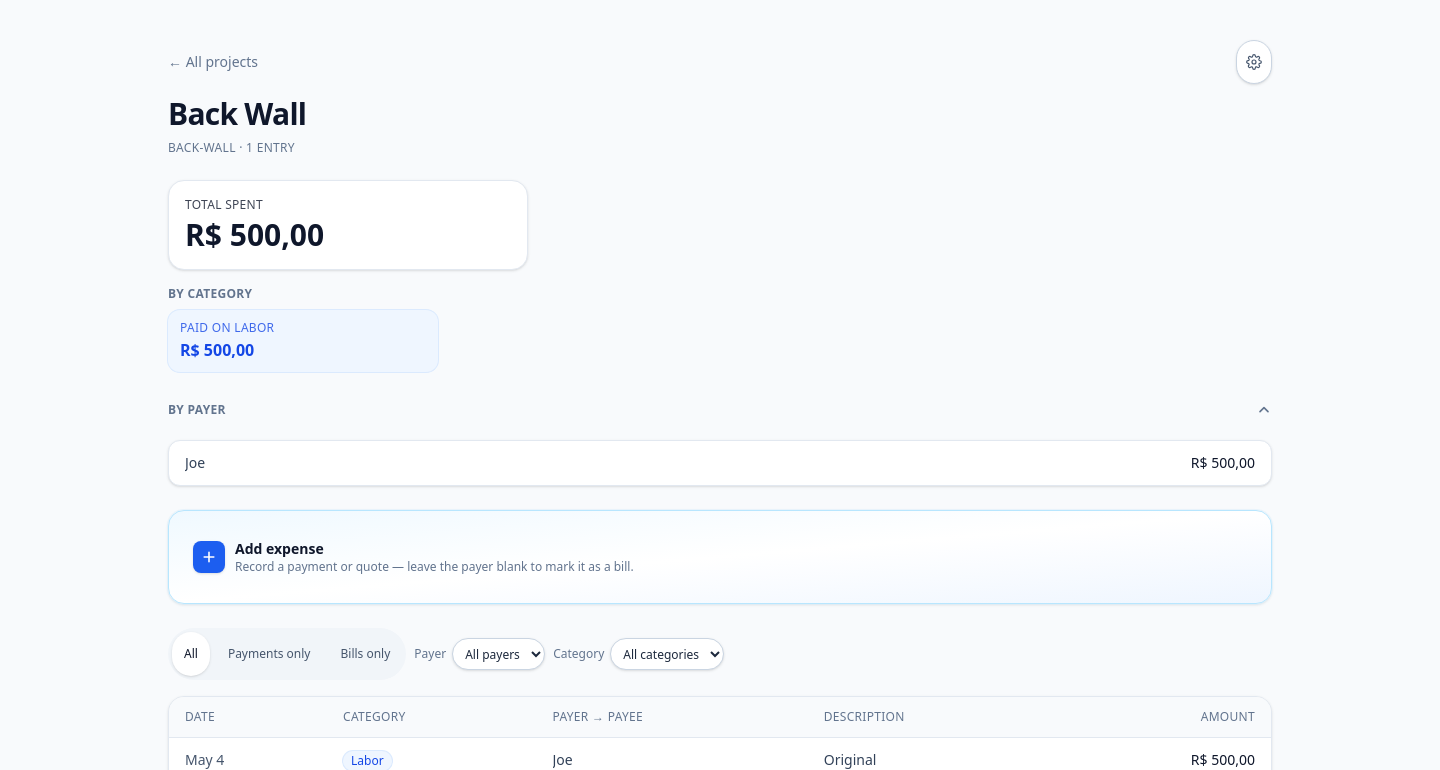
it: review regressions › rename HTTP 400 blocks without a follow-up data POST
Click the button named "Project settings" at point(1254, 62), box [1236, 40, 1272, 84]
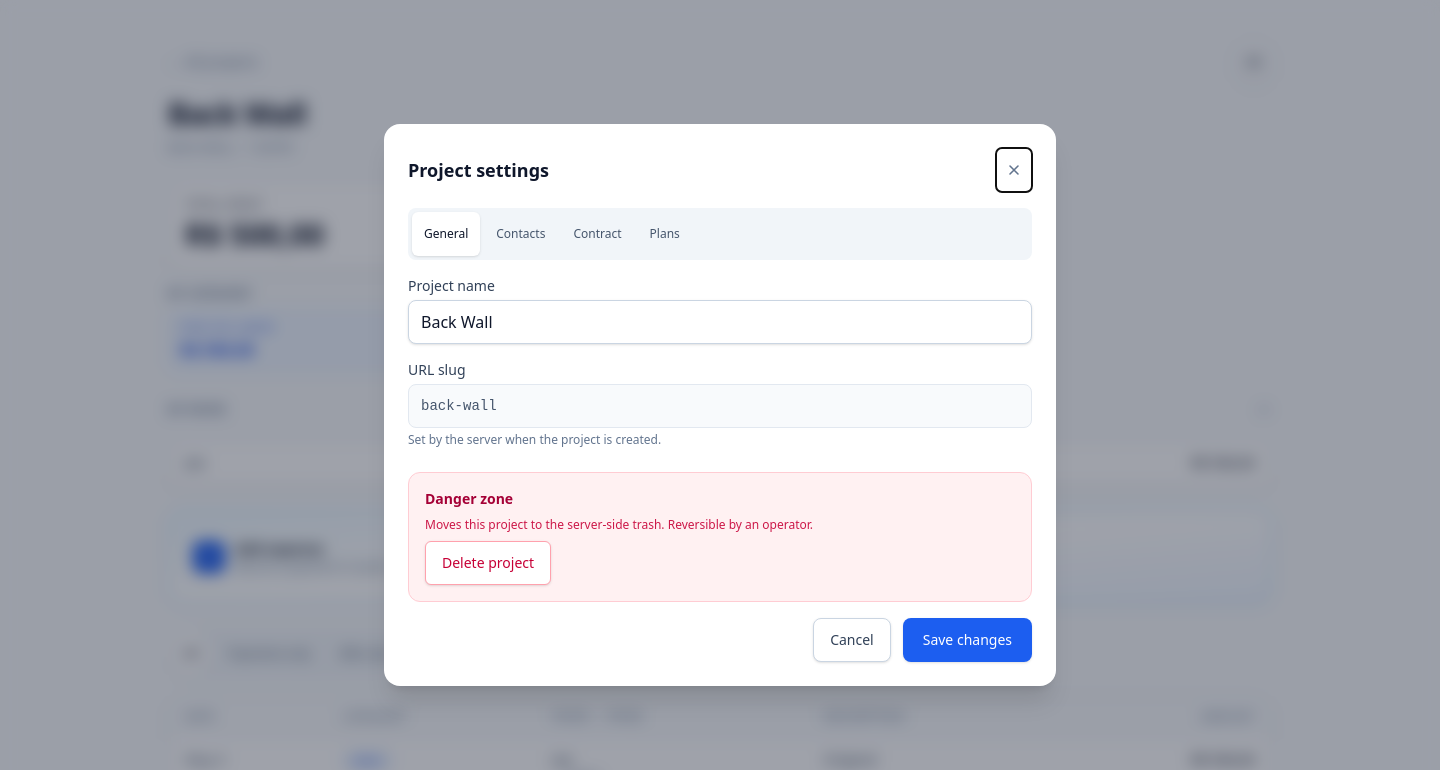
Type " draft" into the field labelled "Project name" at point(720, 322), box [408, 300, 1032, 344]
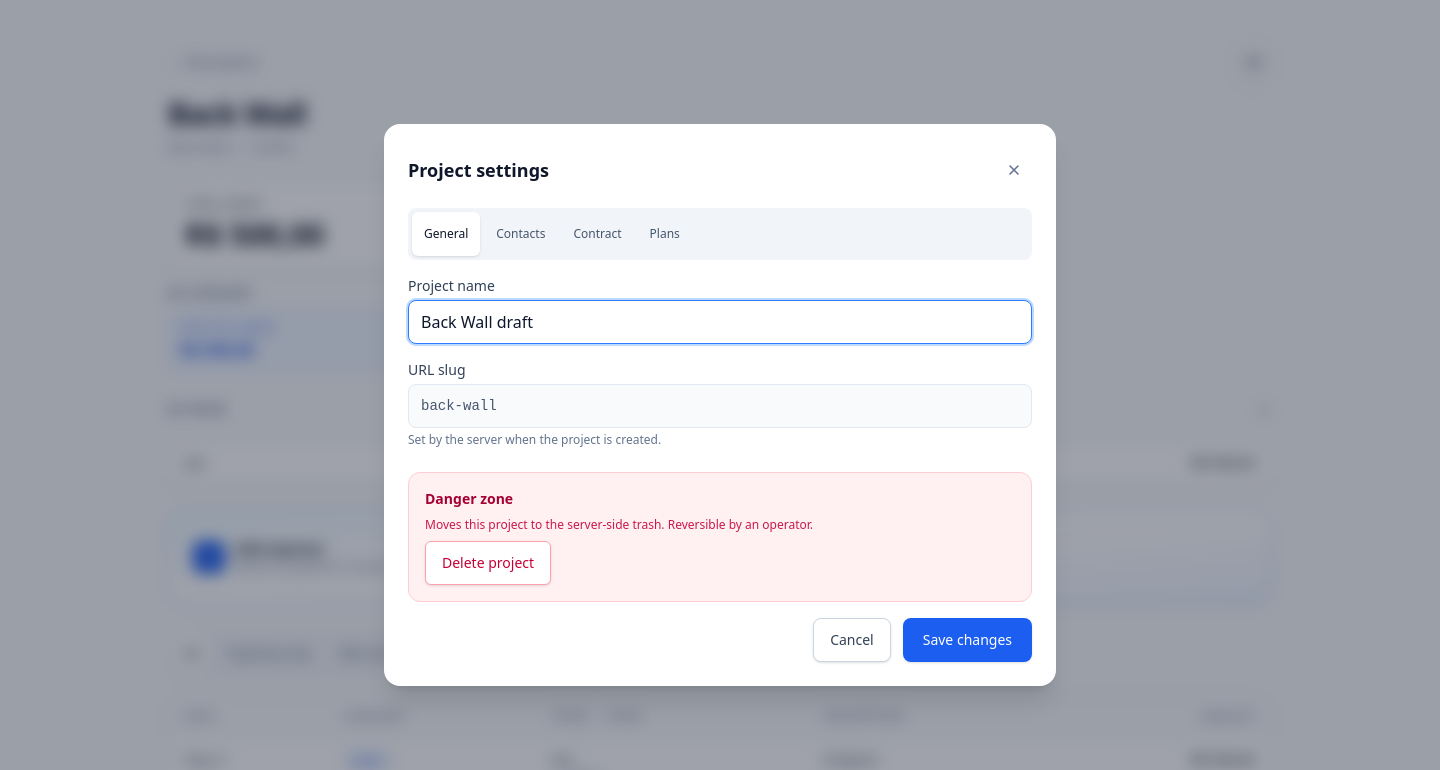
Click the button "Save changes" at point(967, 640), box [903, 618, 1032, 662]
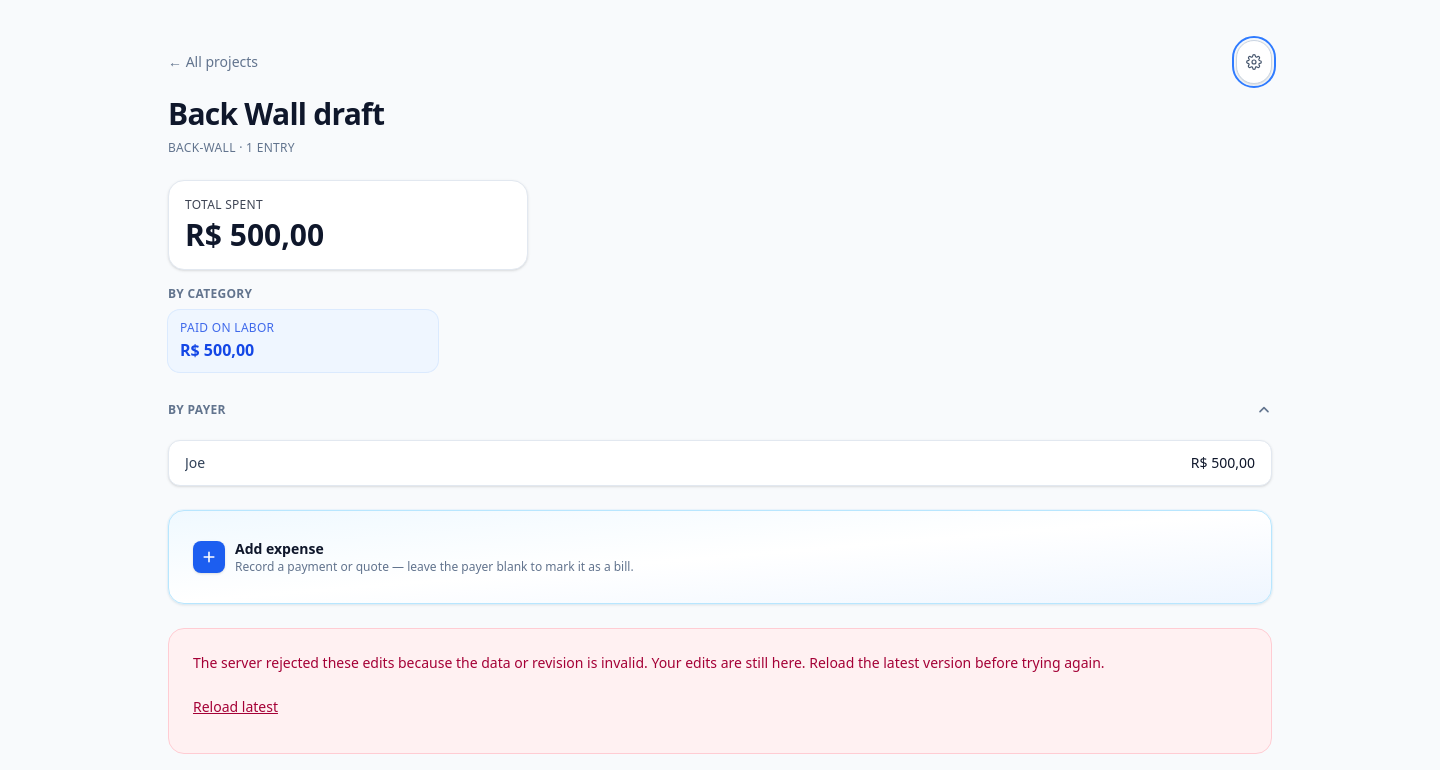
Expected: the button "Reload latest" is shown, [193, 685, 278, 729]
Expected: the dialog is gone
